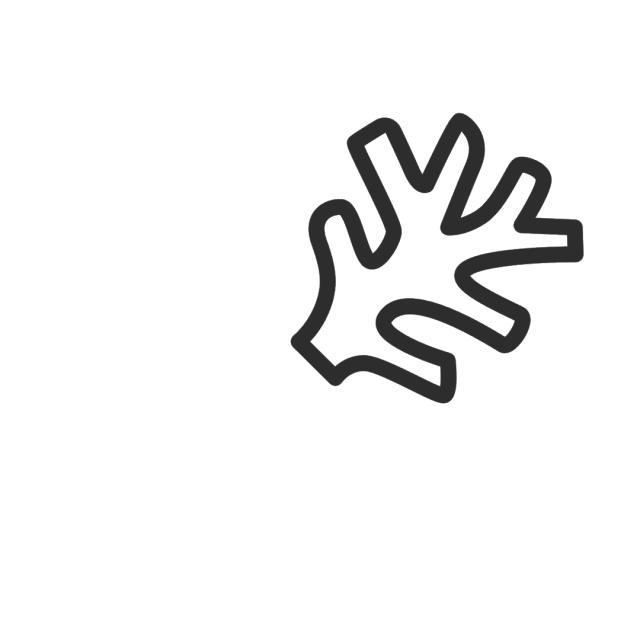coral: (279, 104, 592, 418)
